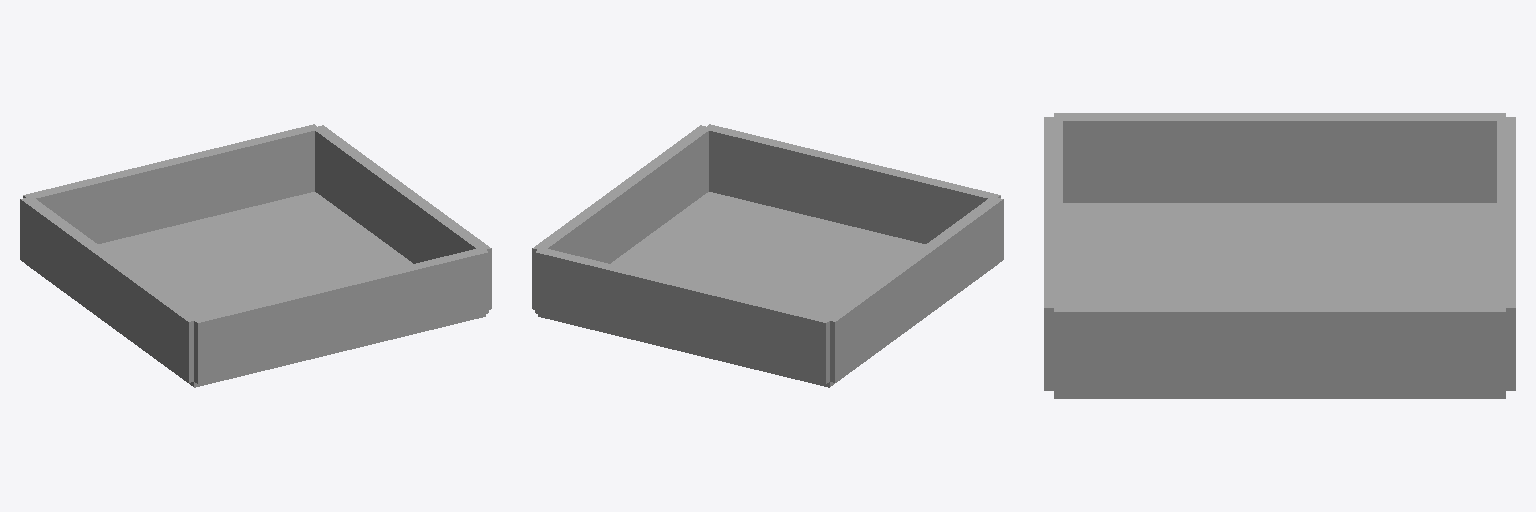
robot.urdf — table:
<?xml version="1.0" ?>
<robot name="table">
    <link name="table_link">
    <contact>
        <lateral_friction value="1"/>
    </contact>
    <inertial>
      <origin rpy="0 0 0" xyz="0 0 0"/>
       <mass value=".0"/>
       <inertia ixx="0" ixy="0" ixz="0" iyy="0" iyz="0" izz="0"/>
    </inertial>

    <visual>
      <origin rpy="0 0 0" xyz="0 0 -0.005"/>
      <geometry>
        <box size="0.5 0.5 0.01"/>
      </geometry>
       <material name="brown">
        <color rgba="0.7 0.7 0.7 0.5"/>
      </material>
    </visual>

    <collision>
      <origin rpy="0 0 0" xyz="0 0 -0.005"/>
      <geometry>
        <box size="0.5 0.5 0.01"/>
      </geometry>
    </collision>

    <visual>
      <origin rpy="0 0 0" xyz="0.25 0 0.05"/>
      <geometry>
        <box size="0.02 0.5 0.1"/>
      </geometry>
       <material name="brown">
        <color rgba="0.7 0.7 0.7 0.5"/>
      </material>
    </visual>
    <collision>
      <origin rpy="0 0 0" xyz="0.25 0 0.05"/>
      <geometry>
        <box size="0.02 0.5 0.1"/>
      </geometry>
    </collision>

    <visual>
      <origin rpy="0 0 0" xyz="-0.25 0 0.05"/>
      <geometry>
        <box size="0.02 0.5 0.1"/>
      </geometry>
       <material name="brown">
        <color rgba="0.7 0.7 0.7 0.5"/>
      </material>
    </visual>
    <collision>
      <origin rpy="0 0 0" xyz="-0.25 0 0.05"/>
      <geometry>
        <box size="0.02 0.5 0.1"/>
      </geometry>
    </collision>

    <visual>
      <origin rpy="0 0 0" xyz="0.0 0.25 0.05"/>
      <geometry>
        <box size="0.5 0.02 0.1"/>
      </geometry>
       <material name="brown">
        <color rgba="0.7 0.7 0.7 0.5"/>
      </material>
    </visual>
    <collision>
      <origin rpy="0 0 0" xyz="0.0 0.25 0.05"/>
      <geometry>
        <box size="0.5 0.02 0.1"/>
      </geometry>
    </collision>

    <visual>
      <origin rpy="0 0 0" xyz="0.0 -0.25 0.05"/>
      <geometry>
        <box size="0.5 0.02 0.1"/>
      </geometry>
       <material name="brown">
        <color rgba="0.7 0.7 0.7 0.5"/>
      </material>
    </visual>
    <collision>
      <origin rpy="0 0 0" xyz="0.0 -0.25 0.05"/>
      <geometry>
        <box size="0.5 0.02 0.1"/>
      </geometry>
    </collision>

  </link>
</robot>

--- Render facts (derived) ---
The picture shows the robot from 3 angles, left to right: view 1: azimuth 30°, elevation 25°; view 2: azimuth 150°, elevation 25°; view 3: azimuth 270°, elevation 25°; orthographic projection.
Model table with 1 links and 0 joints (none), rooted at table_link, posed all joints at 0.
Visible links, largest first — view 1: table_link; view 2: table_link; view 3: table_link.
Link boxes in pixels (bbox=[...]): table_link: bbox=[20, 124, 491, 387]; table_link: bbox=[532, 124, 1003, 387]; table_link: bbox=[1044, 113, 1515, 398].
Size in the robot's own frame: 0.52 by 0.52 by 0.11 metres.
Geometry: primitives only (box / cylinder / sphere), no mesh files.